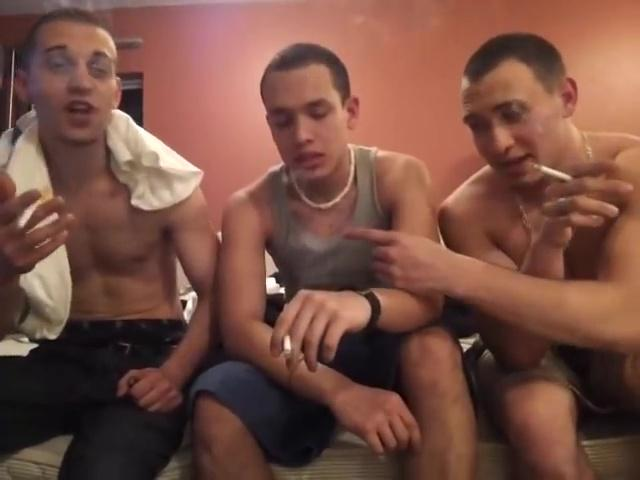cigarette: (12, 188, 59, 232), (534, 161, 576, 181), (284, 333, 292, 361)
